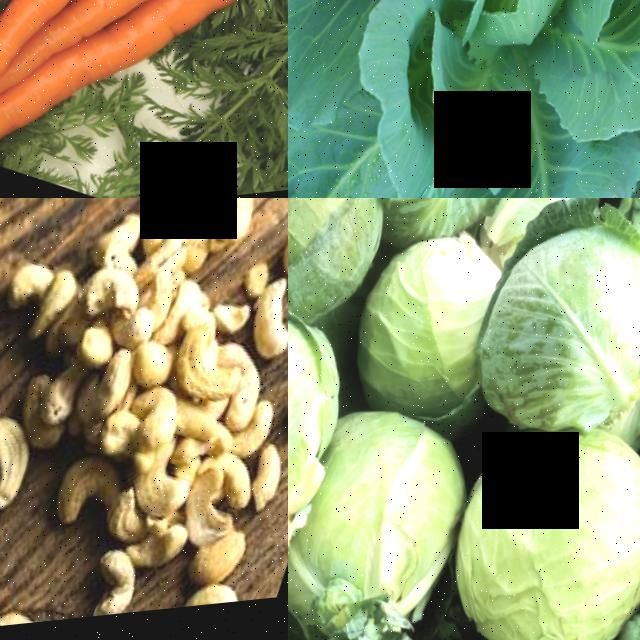cabbage: (288, 0, 640, 198), (444, 208, 640, 465), (288, 401, 497, 640), (413, 420, 640, 640), (336, 228, 543, 441), (288, 276, 362, 581), (288, 198, 419, 361)
cashew: (109, 388, 179, 460), (0, 243, 53, 335), (0, 415, 43, 527), (28, 263, 82, 335), (251, 198, 288, 298), (61, 321, 113, 386), (157, 579, 241, 617)
